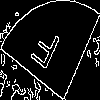F: (25, 25, 62, 79)
